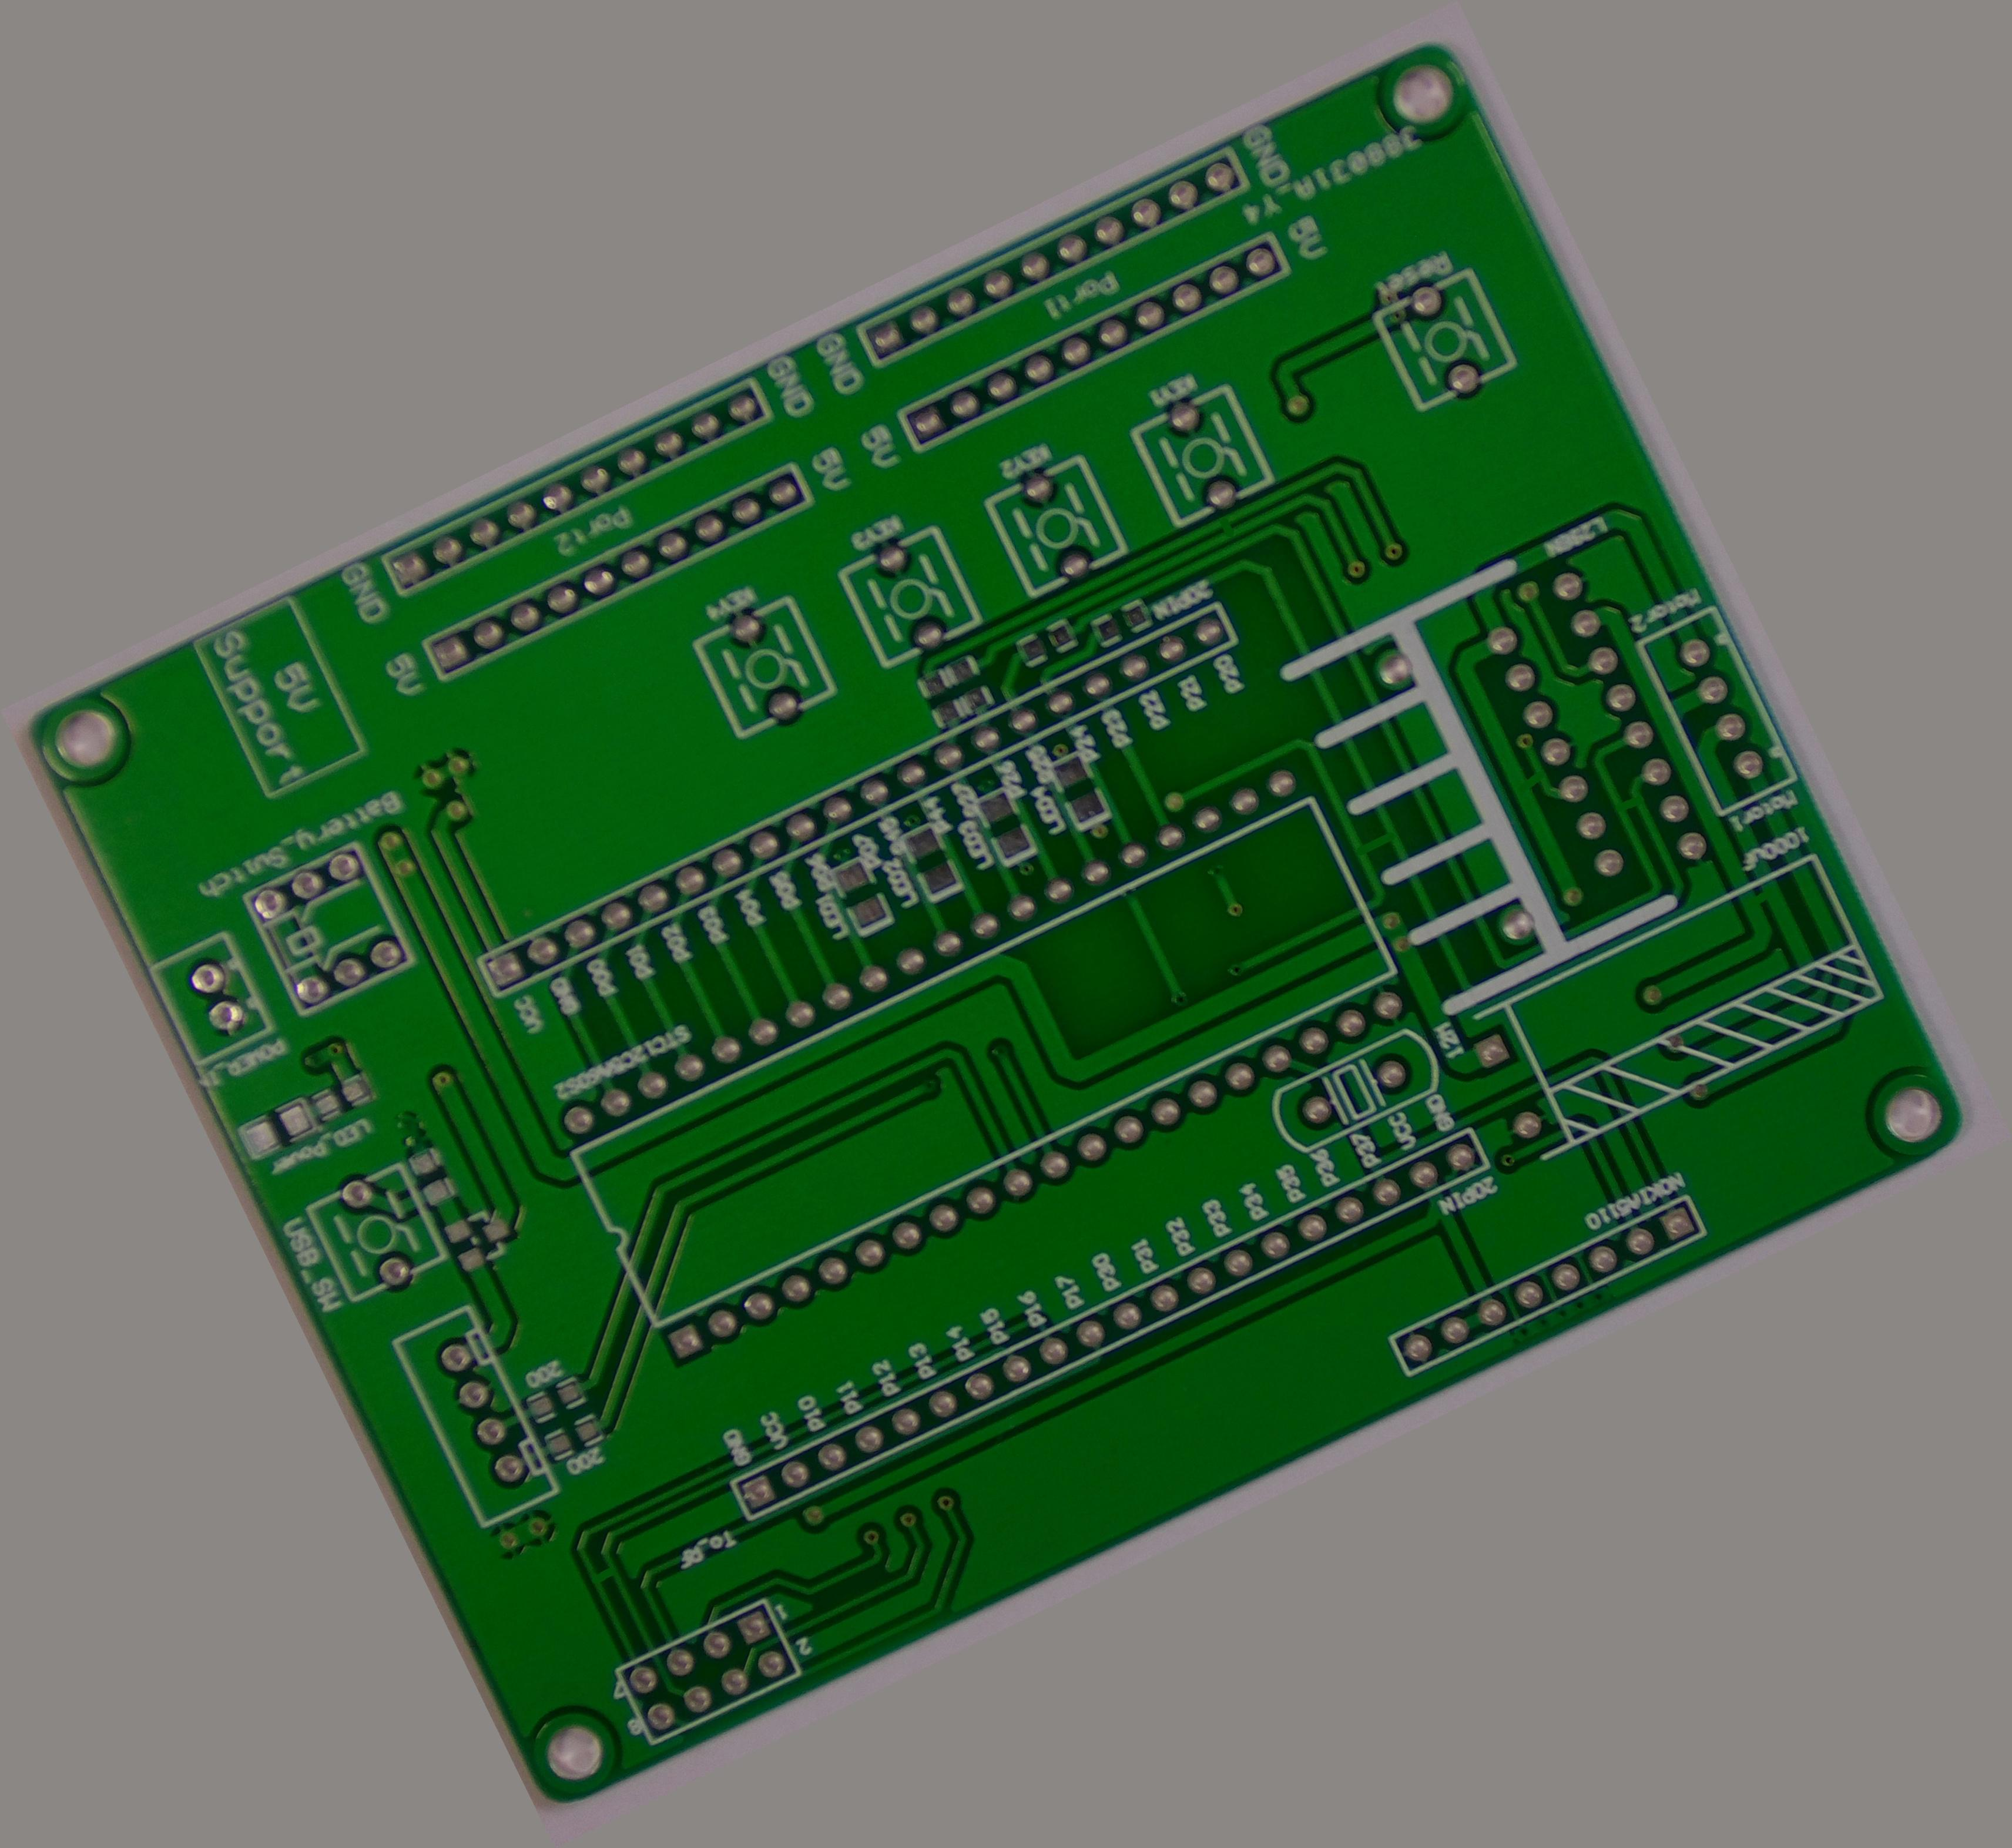short: (1343, 815, 1409, 871), (1502, 754, 1558, 805), (1199, 501, 1255, 552), (1602, 778, 1653, 829), (578, 1548, 627, 1597)
